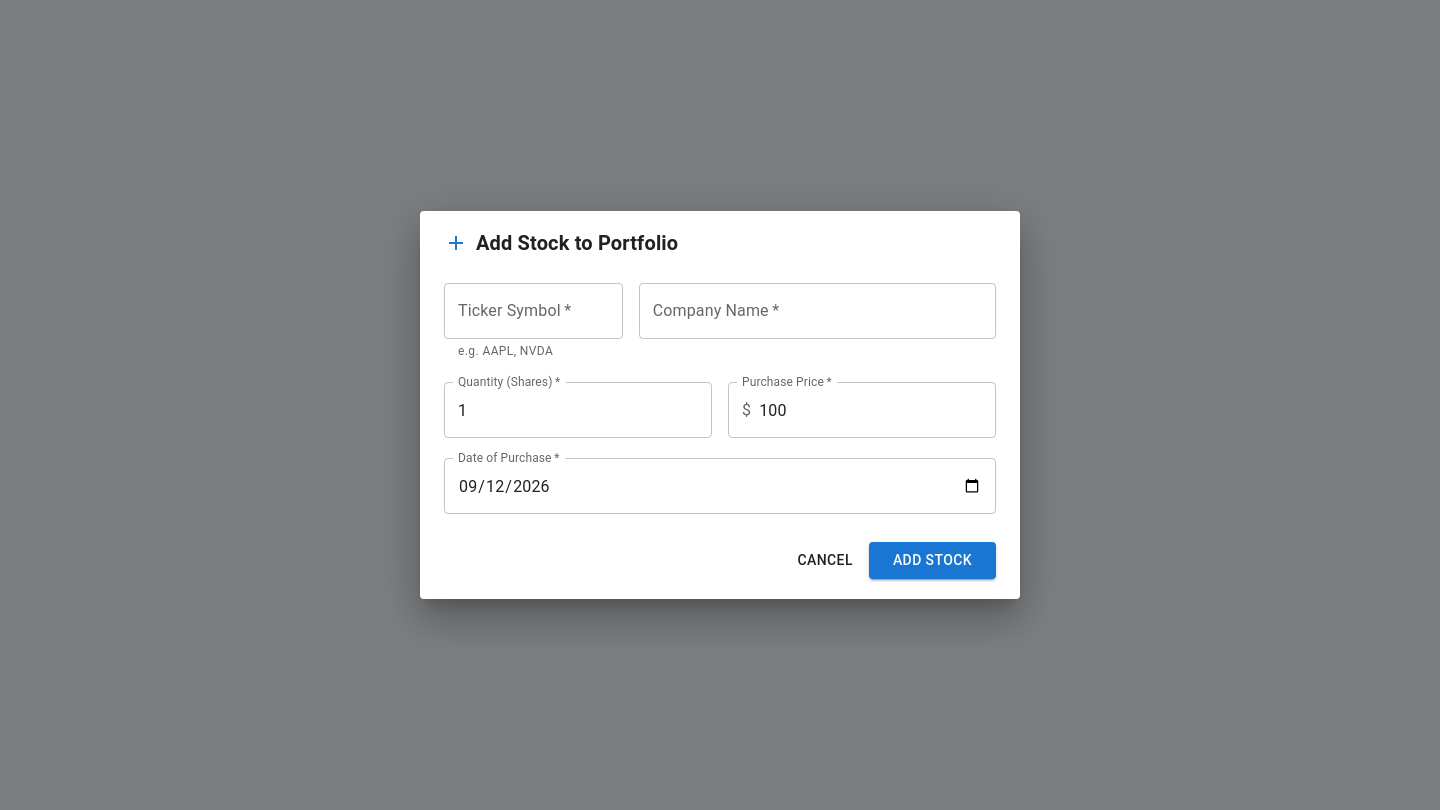
AddStockModal › validates required fields before submitting
The width and height of the screenshot is (1440, 810).
Step 1. Click the button "Add Stock" → (932, 560), box [869,542,996,579]
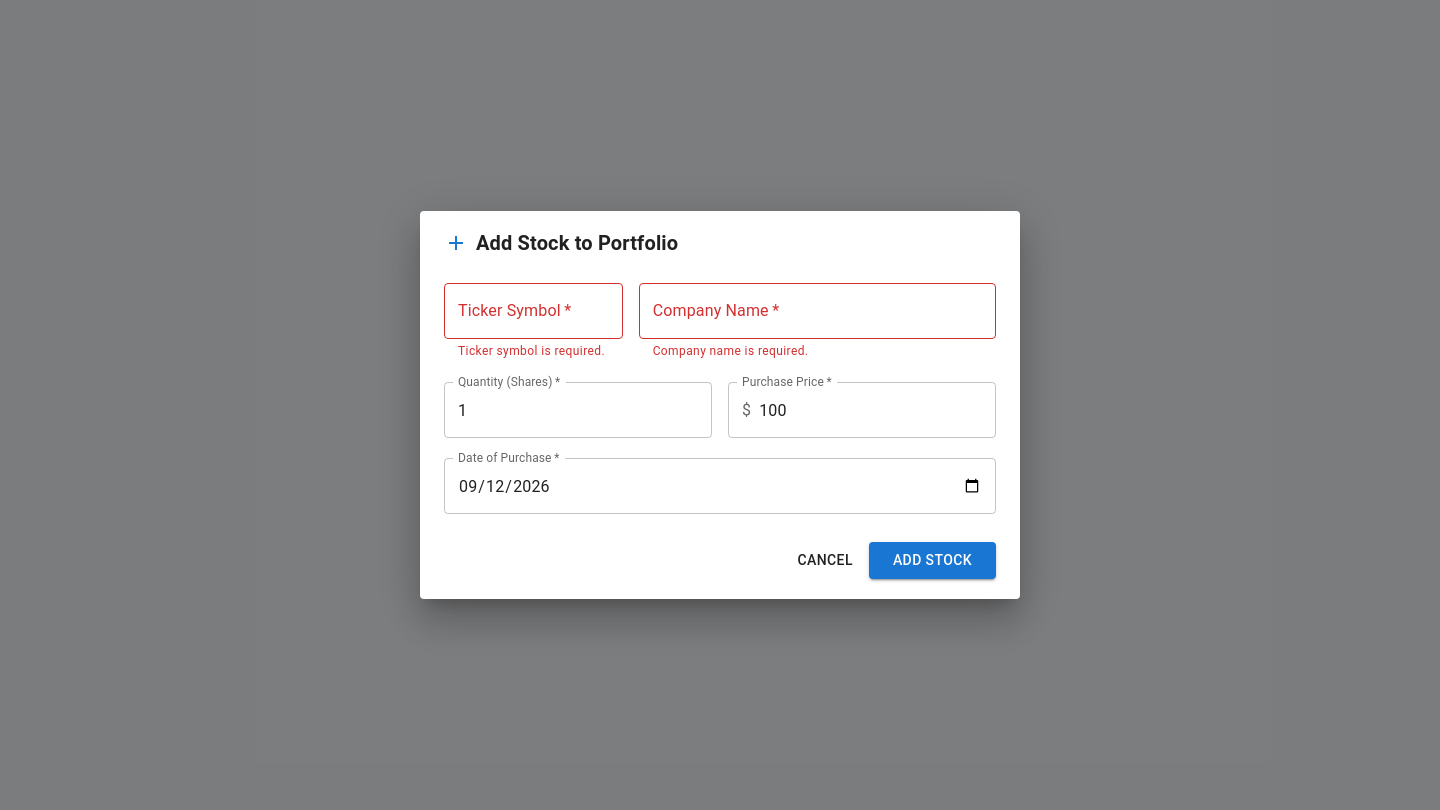
expect the text "Ticker symbol is required." is shown: met, box [458,342,609,362]
expect the text "Company name is required." is shown: met, box [653,344,808,358]
